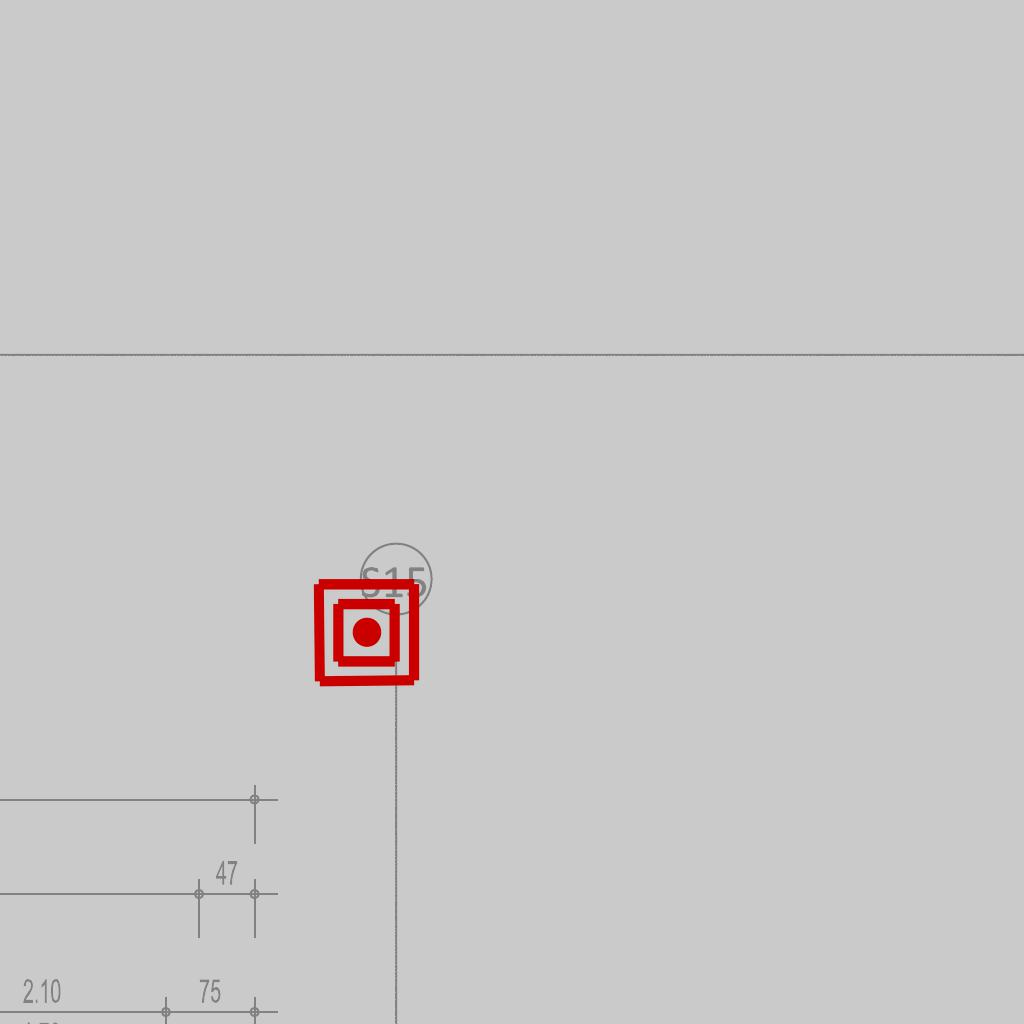NAM-Nichtautomatischer_Melder: (310, 576, 423, 689)
